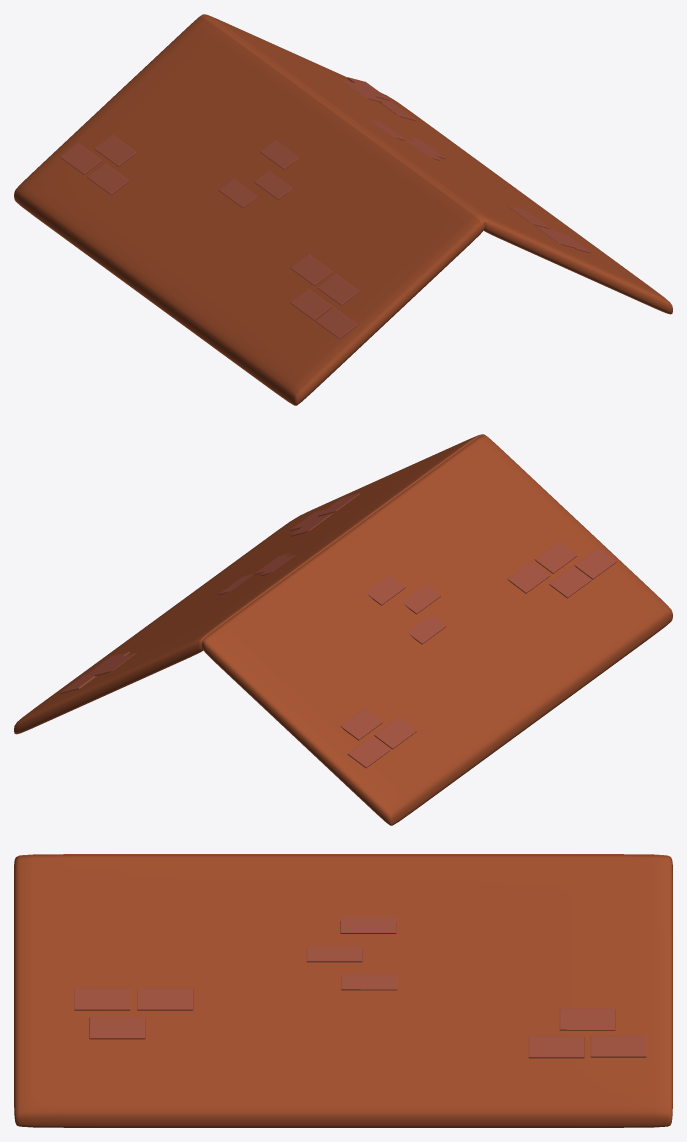
File: Roof.fbx
3 views of the same model, one above another, from view 1: azimuth 30°, elevation 25°; view 2: azimuth 150°, elevation 25°; view 3: azimuth 270°, elevation 25° (orthographic). The views are drawn at different scales.
Visible parts, largest first — view 1: Roof; view 2: Roof; view 3: Roof.
Boxes of the visible parts, x1,y1,x2,y2 form: Roof: [14, 14, 672, 405]; Roof: [14, 434, 672, 825]; Roof: [14, 854, 672, 1127].
Bounding box in the file's own units: 331 × 120 × 430.
